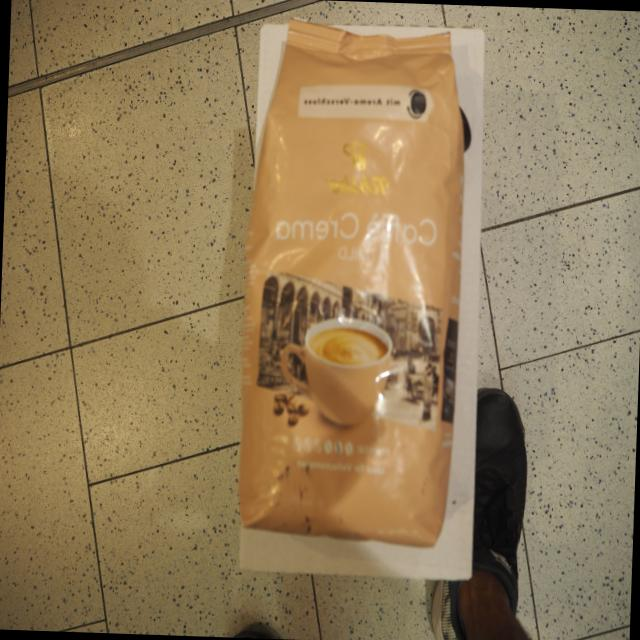CC Mild: (228, 11, 485, 554)
